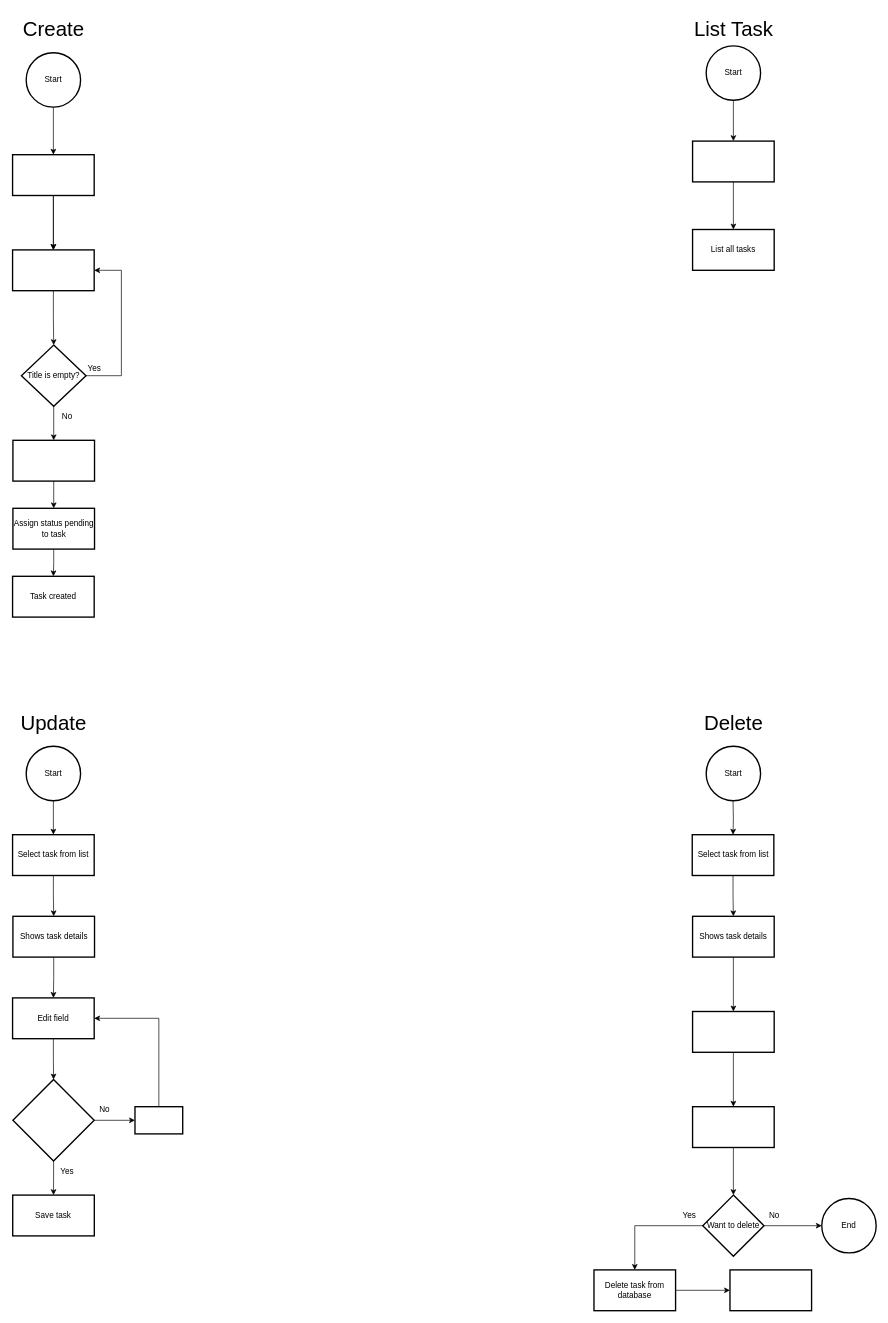
Some shapes in this 888 by 1323 pixel diagram are drawn without their labels. The shapes that lost their labels are listed below. From the top down, each one's centre as x and y in pixels, then its label:
At point (53, 175): "Create Task".
At point (733, 161): "Find all task from user".
At point (53, 270): "Enter Title and description".
At point (53, 460): "Assign current date to task".
At point (733, 1031): "Press delete button".
At point (53, 1119): "New information valid?".
At point (158, 1120): "Error message".
At point (733, 1127): "Show warning".
At point (770, 1290): "Show confirmation message".
